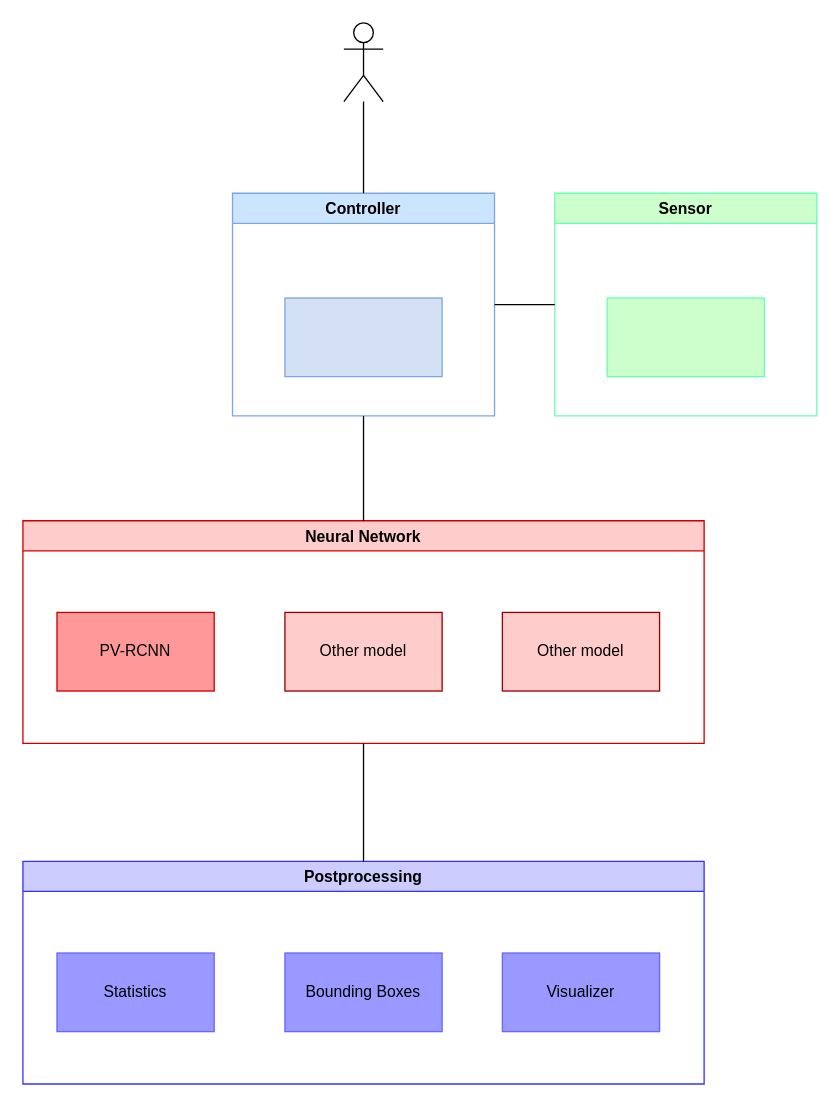
The diagram is 840 pixels wide and 1107 high, and some of its shapes have lost their labels. Here are the shapes that lost their labels. From the top down, the centre of each, then its label:
At point (363, 62): "User".
At point (363, 337): "Command Line Interface".
At point (685, 337): "Connect Sensor".
